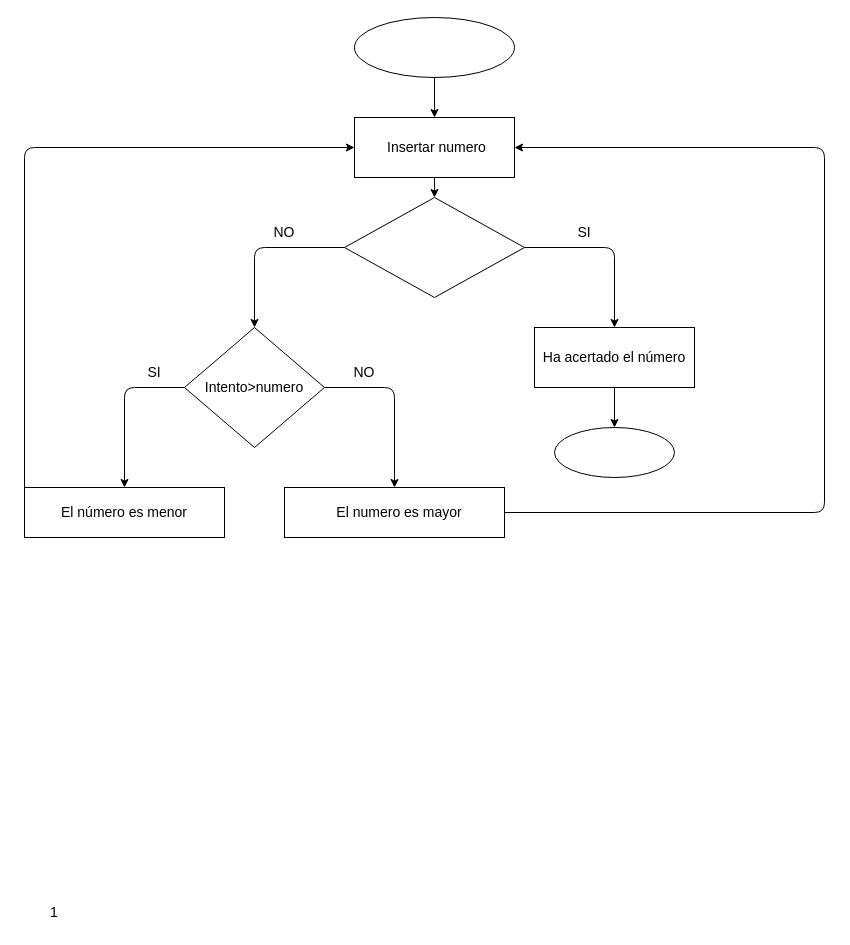
This 850x945 diagram has some shape labels left out. The centre of each missing label's shape, as x and y in pixels:
FIN: (614,452)
INICIO: (434,47)
Intento==numero: (434,247)
